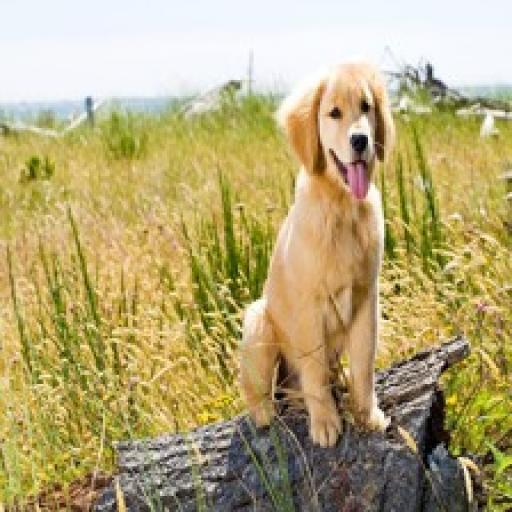dog: (227, 55, 406, 450)
